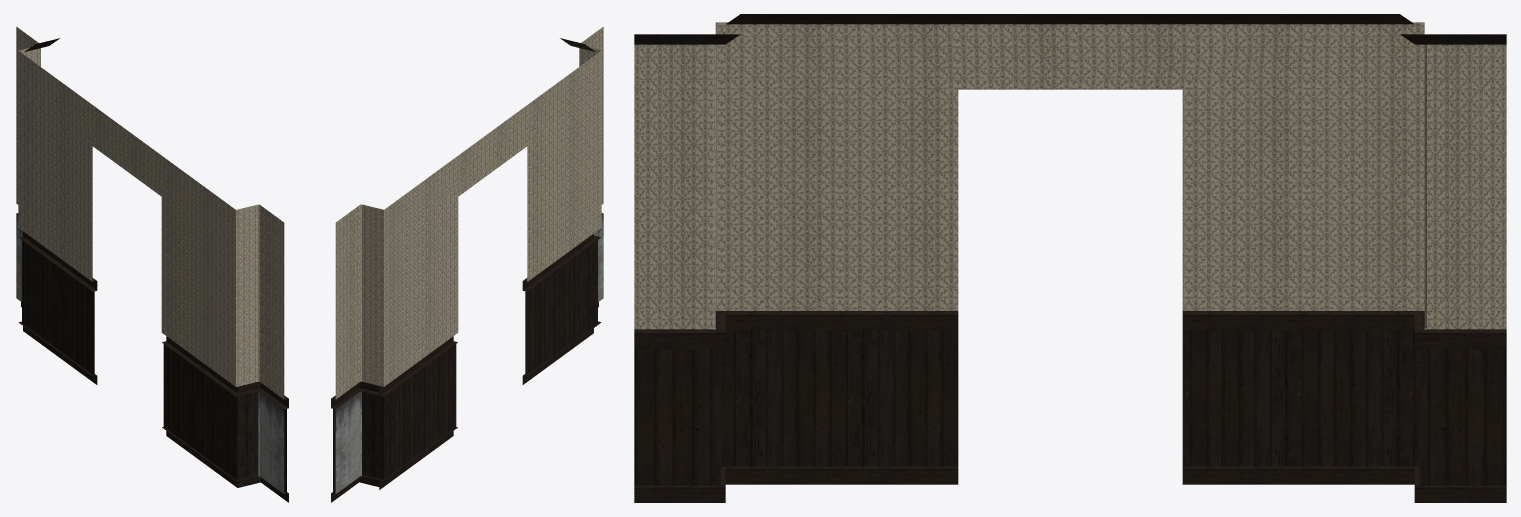
File: #LVL_Wall_Door.fbx
3 renders of one model, left to right at view 1: azimuth 30°, elevation 25°; view 2: azimuth 150°, elevation 25°; view 3: azimuth 270°, elevation 25°, orthographic. The views are drawn at different scales.
Parts seen in each view (by area): view 1: Cube_056; view 2: Cube_056; view 3: Cube_056.
Boxes of the visible parts, x1=… form: Cube_056: x1=16, y1=26, x2=288, y2=502; Cube_056: x1=331, y1=26, x2=603, y2=502; Cube_056: x1=634, y1=14, x2=1506, y2=502.
Size of the model in its own units: 1.6 by 12 by 20.
